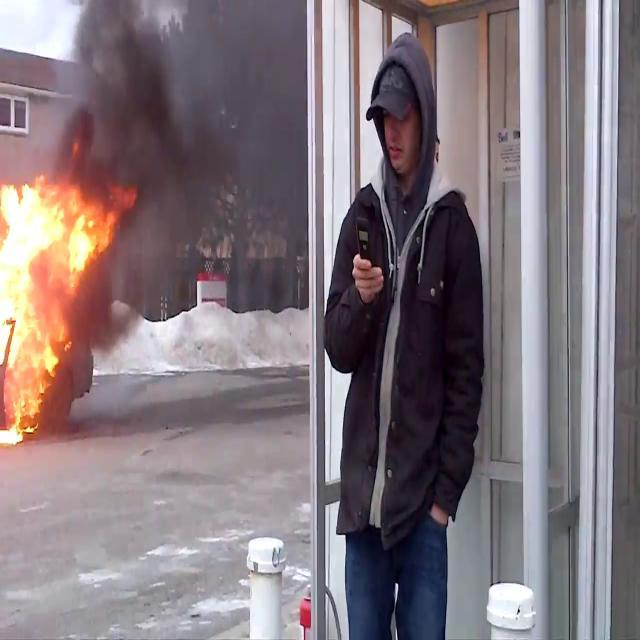Fire: (0, 170, 113, 442)
Smoke: (51, 0, 301, 293)
